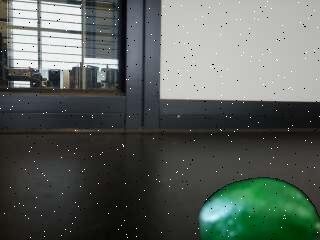Lime: (195, 174, 320, 240)
